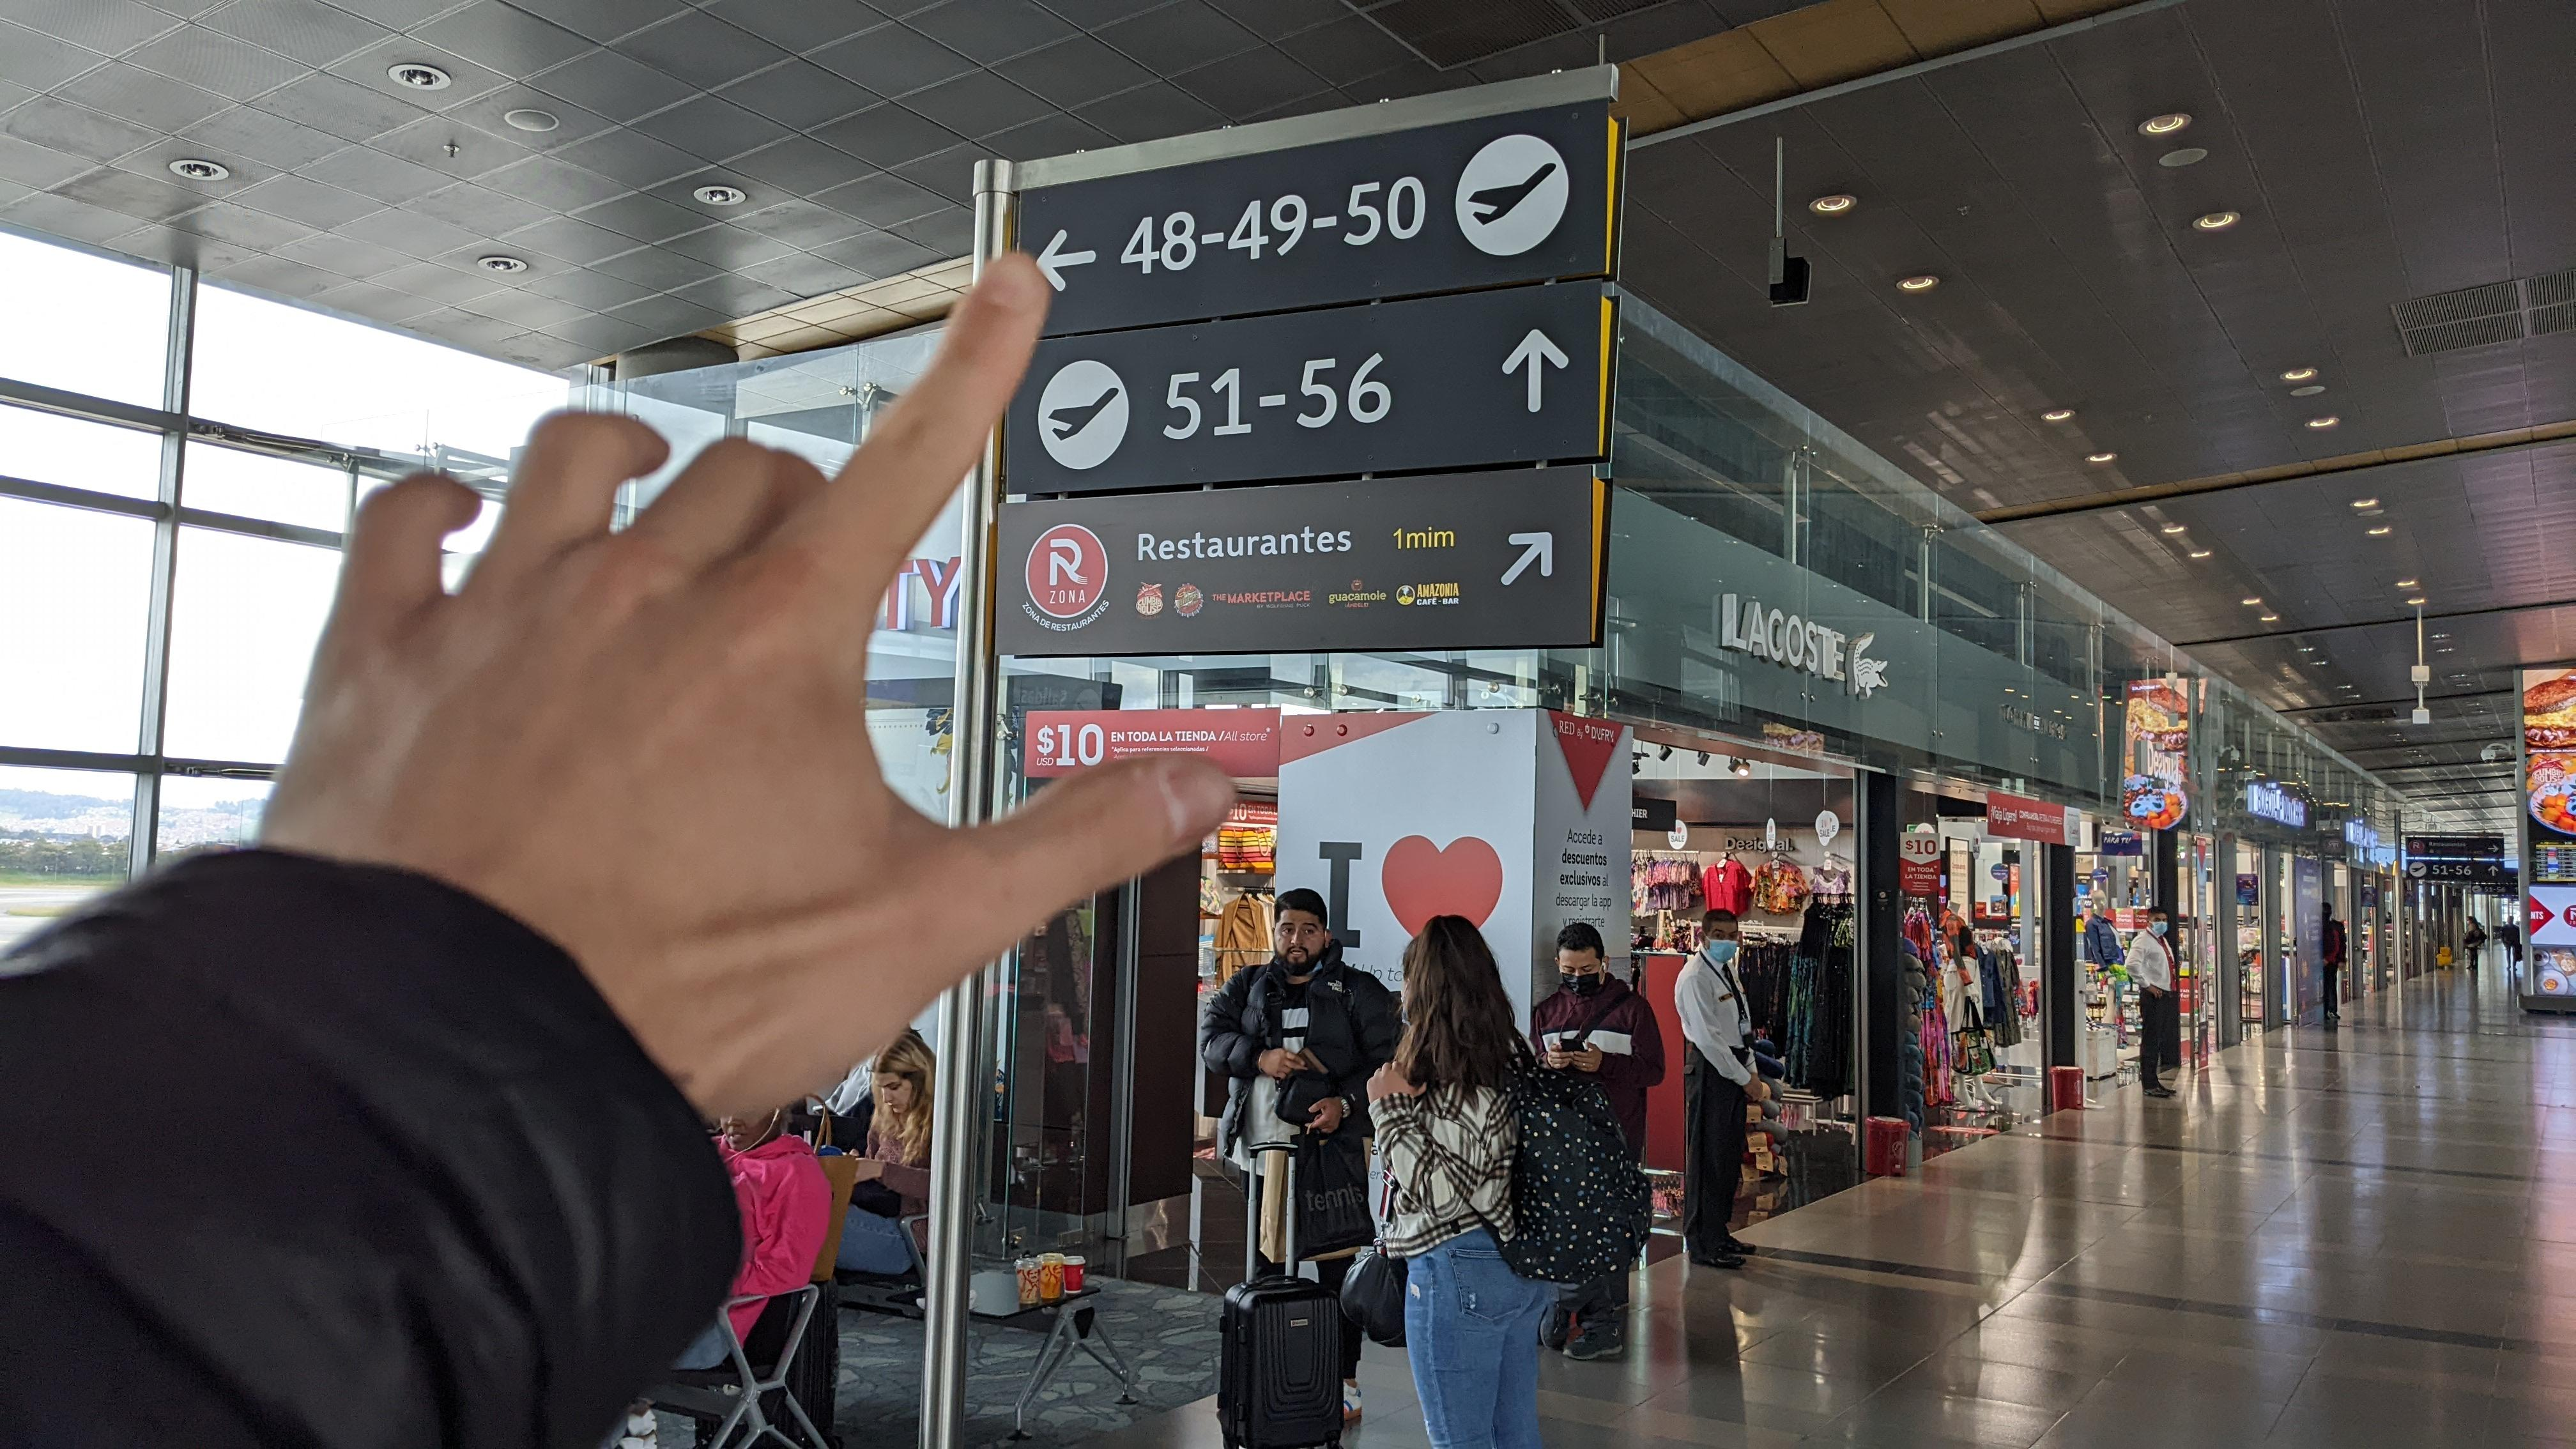airplane symbol: (1468, 156, 1566, 234), (1049, 384, 1123, 442)
left arrow: (1031, 226, 1102, 294)
up arrow: (1500, 320, 1573, 425)
